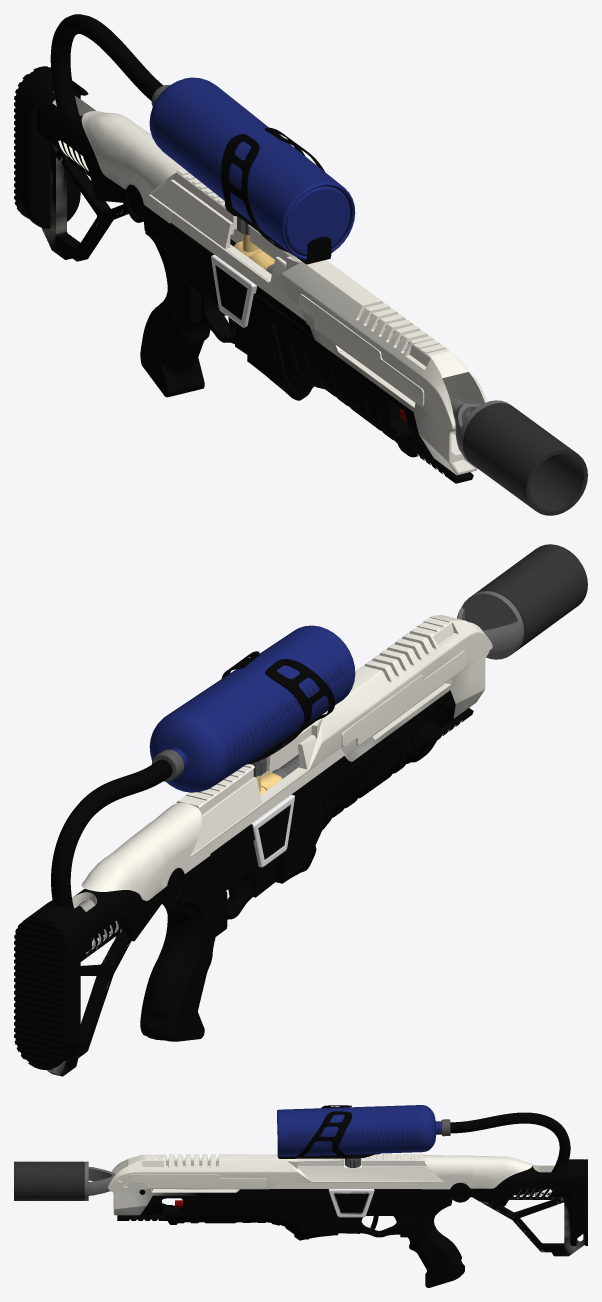
The picture shows the model from 3 angles, top to bottom: view 1: azimuth 30°, elevation 25°; view 2: azimuth 150°, elevation 25°; view 3: azimuth 270°, elevation 25°; orthographic projection. The views are drawn at different scales.
Visible parts, largest first — view 1: NotAFlamethrower; view 2: NotAFlamethrower; view 3: NotAFlamethrower.
Part boxes in pixels (x1,y1,x2,y2): NotAFlamethrower: (14, 14, 587, 515); NotAFlamethrower: (14, 544, 587, 1076); NotAFlamethrower: (14, 1105, 587, 1287).
Size of the model in its own units: 0.1152 by 0.4235 by 1.25.
Materials: 1 (1 with a texture image).
